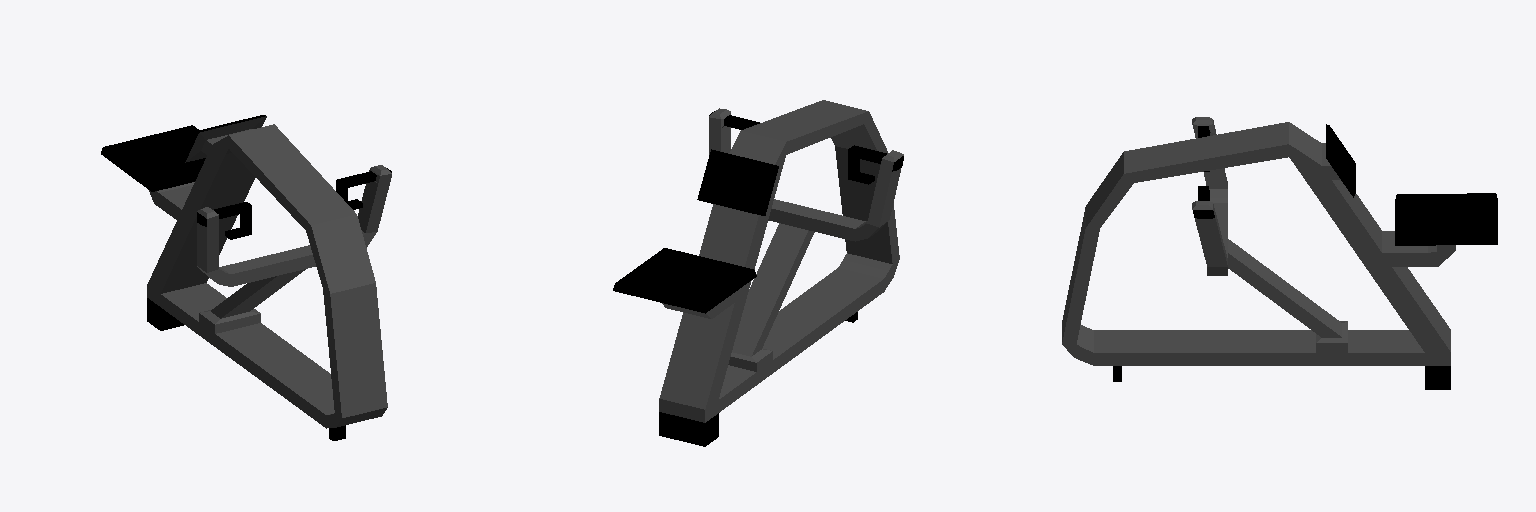
File: Rudermaschine_.obj
The picture shows the model from 3 angles: view 1: azimuth 30°, elevation 25°; view 2: azimuth 150°, elevation 25°; view 3: azimuth 270°, elevation 25°; orthographic projection.
Visible parts, largest first — view 1: Cube, Cube.001; view 2: Cube, Cube.001; view 3: Cube, Cube.001.
Boxes of the visible parts, <box> form: Cube: <box>101,115,387,440</box>; Cube.001: <box>197,165,391,333</box>; Cube: <box>613,100,899,446</box>; Cube.001: <box>709,108,903,371</box>; Cube: <box>1062,122,1497,389</box>; Cube.001: <box>1192,117,1347,352</box>.
Size of the model in its own units: 0.8294 by 1.02 by 1.65.